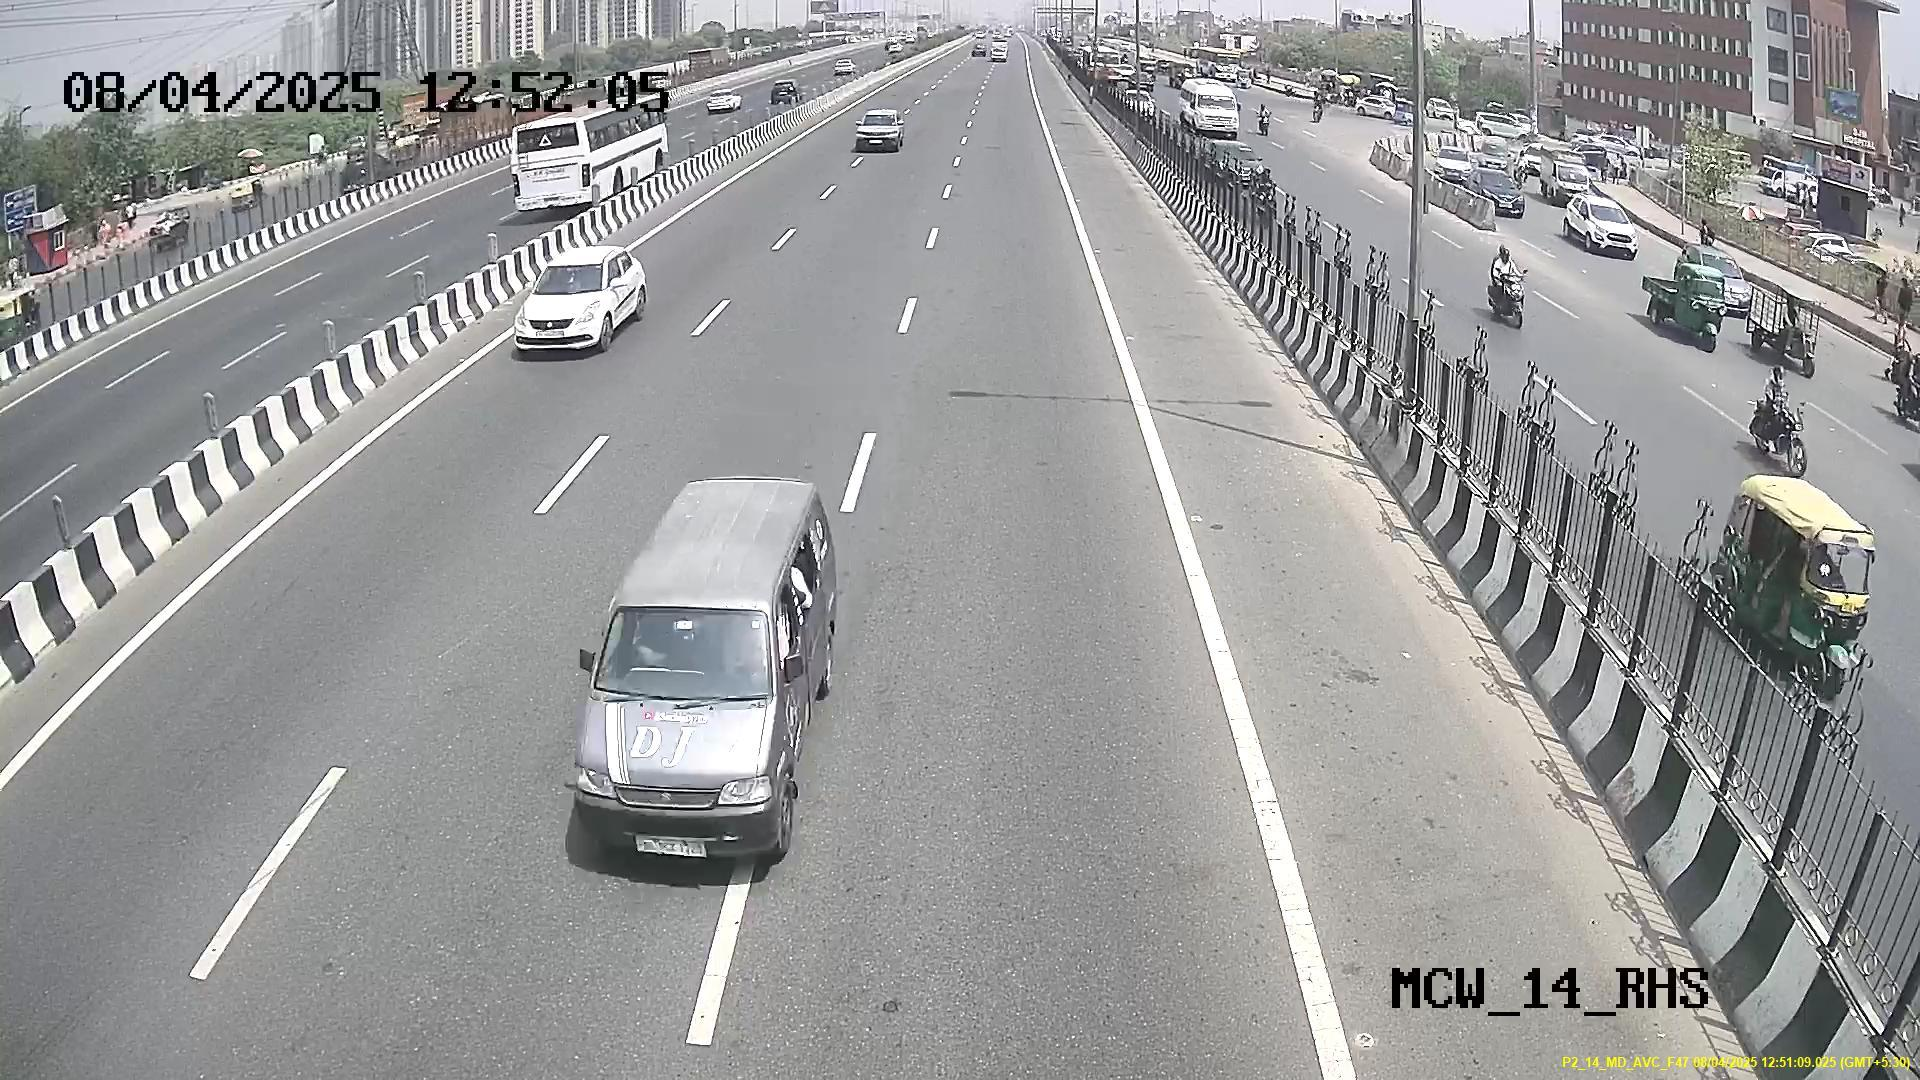car: (576, 568, 799, 861), (508, 252, 638, 357)
